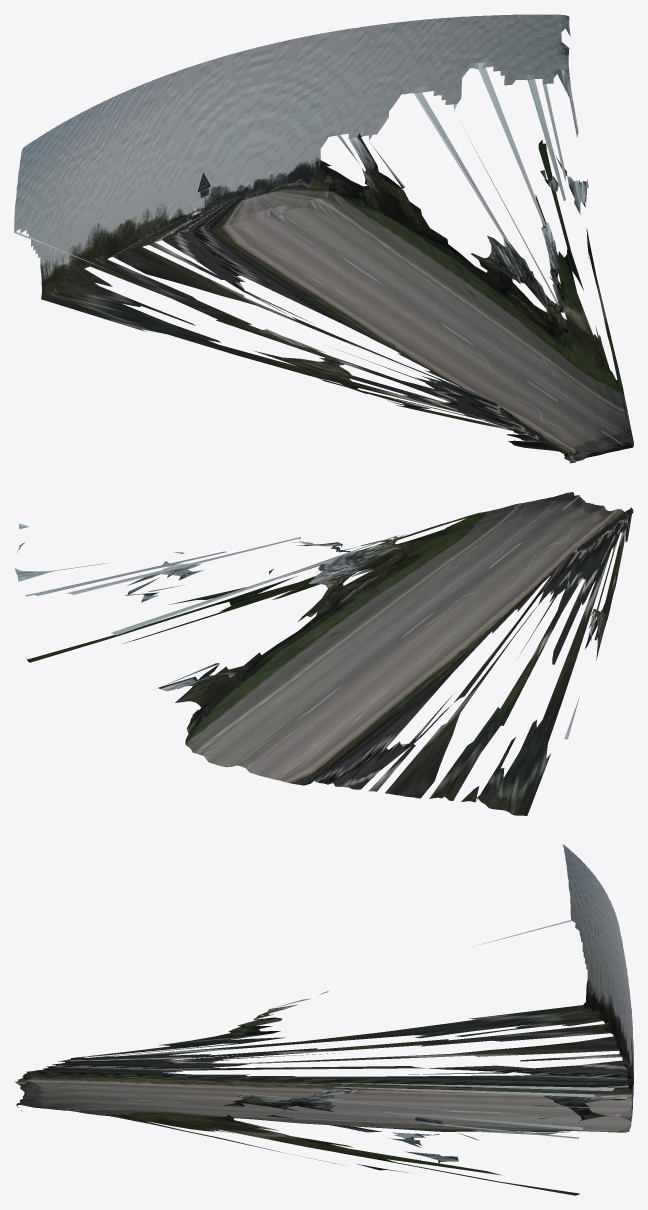
The picture shows the model from 3 angles, top to bottom: view 1: azimuth 30°, elevation 25°; view 2: azimuth 150°, elevation 25°; view 3: azimuth 270°, elevation 25°; orthographic projection. The views are drawn at different scales.
Parts seen in each view (by area): view 1: defaultobject; view 2: defaultobject; view 3: defaultobject.
Part boxes in pixels (x1,y1,x2,y2): defaultobject: (14,14,633,463); defaultobject: (14,492,633,815); defaultobject: (14,844,633,1195).
Size of the model in its own units: 40.98 by 12.69 by 44.78.
Materials: 1 (1 with a texture image).
